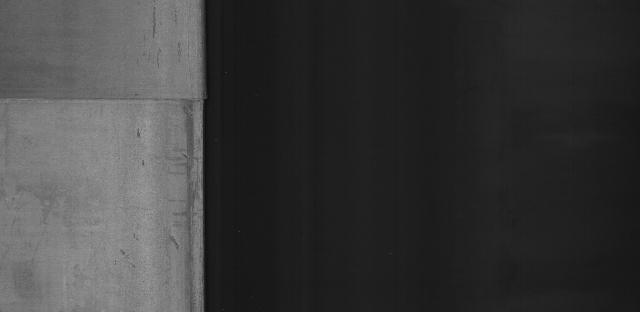welding_line: (0, 90, 223, 112)
